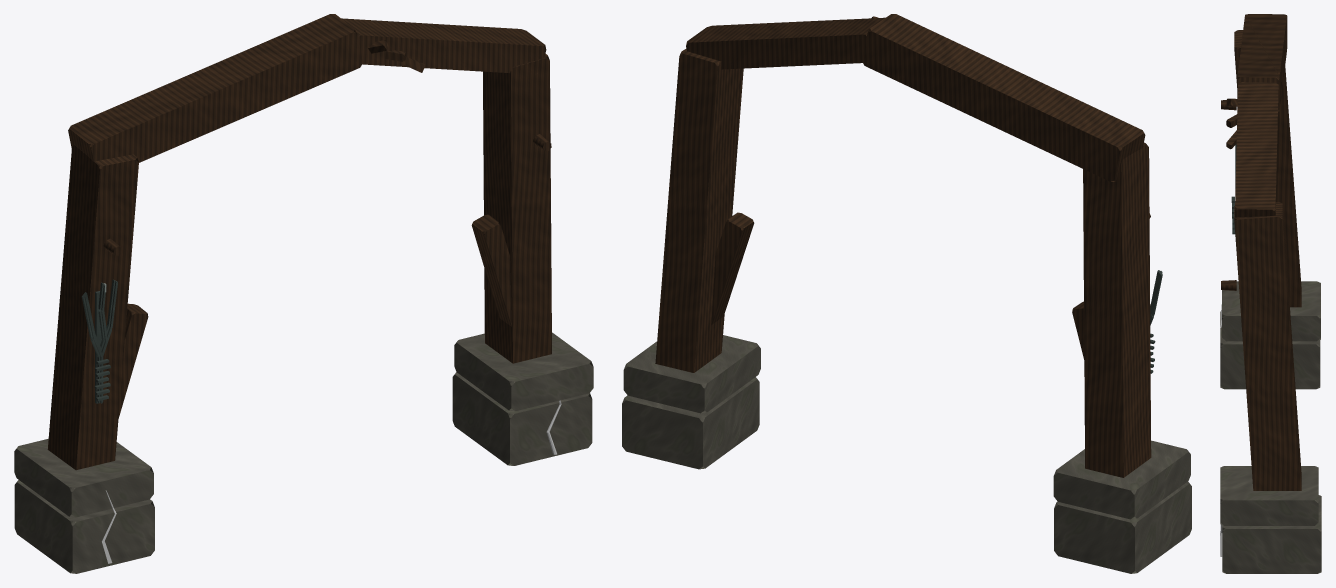
File: cataclysm_rootvault_frame-lod1.gltf
3 renders of one model, left to right at view 1: azimuth 30°, elevation 25°; view 2: azimuth 150°, elevation 25°; view 3: azimuth 270°, elevation 25°, orthographic. The views are drawn at different scales.
Visible parts, largest first — view 1: cataclysm_rootvault_frame LOD1 cataclysm_rootvault_frame; view 2: cataclysm_rootvault_frame LOD1 cataclysm_rootvault_frame; view 3: cataclysm_rootvault_frame LOD1 cataclysm_rootvault_frame.
Boxes of the visible parts, bbox=[...] form: cataclysm_rootvault_frame LOD1 cataclysm_rootvault_frame: bbox=[14, 14, 593, 573]; cataclysm_rootvault_frame LOD1 cataclysm_rootvault_frame: bbox=[622, 14, 1191, 573]; cataclysm_rootvault_frame LOD1 cataclysm_rootvault_frame: bbox=[1220, 14, 1321, 573].
Size of the model in its own units: 3.32 by 2.84 by 0.6514.
